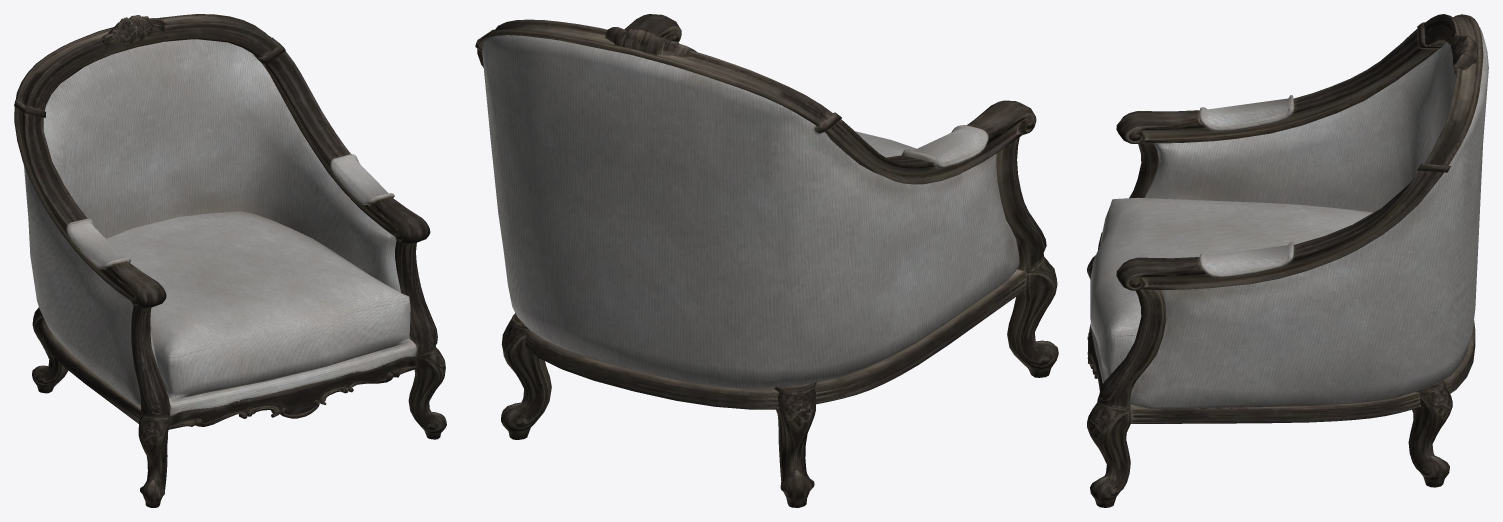
Rendered from ArmChair_01.glb.
3 views of the same model, side by side, from view 1: azimuth 30°, elevation 25°; view 2: azimuth 150°, elevation 25°; view 3: azimuth 270°, elevation 25° (orthographic). The views are drawn at different scales.
Parts seen in each view (by area): view 1: ArmChair_01; view 2: ArmChair_01; view 3: ArmChair_01.
Boxes of the visible parts, x1,y1,x2,y2 form: ArmChair_01: (14,14,446,507); ArmChair_01: (475,14,1058,507); ArmChair_01: (1087,14,1488,507).
Size of the model in its own units: 0.85 by 0.9 by 0.85.
Materials: 1 (1 with a texture image).
